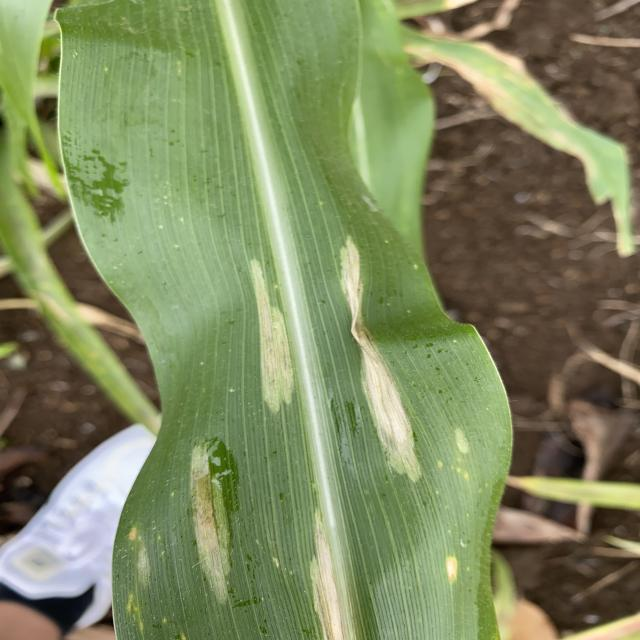Corn_Leaf_Blight: (106, 193, 519, 640)
